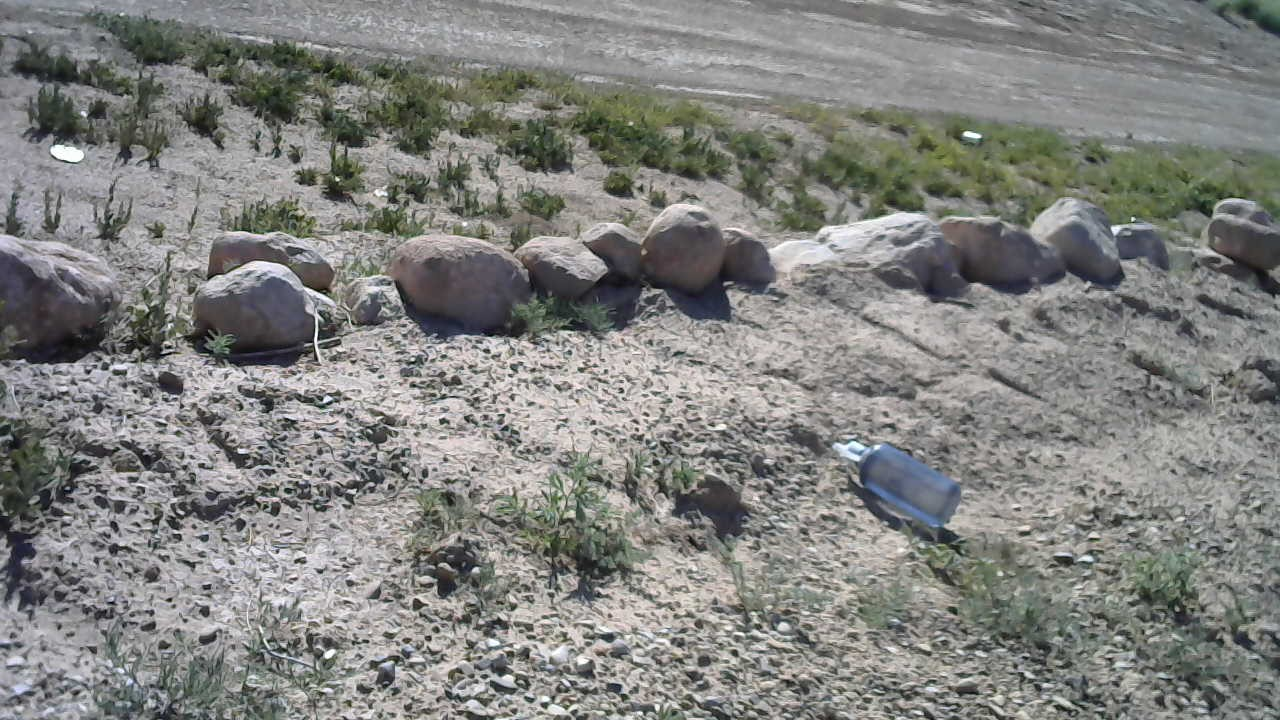bottle: (833, 427, 961, 529)
